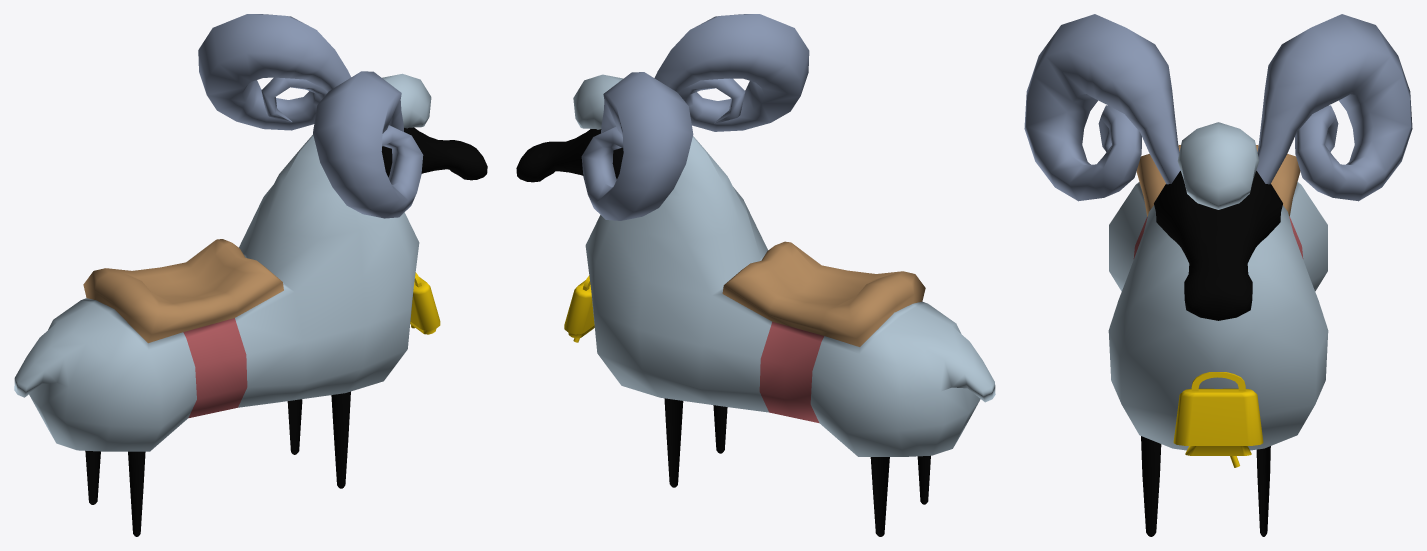
File: Aries_v01.fbx
3 views of the same model, side by side, from view 1: azimuth 30°, elevation 25°; view 2: azimuth 150°, elevation 25°; view 3: azimuth 270°, elevation 25° (orthographic). The views are drawn at different scales.
Visible parts, largest first — view 1: pCube5; view 2: pCube5; view 3: pCube5.
Boxes of the visible parts, <box> form: pCube5: <box>14,14,487,536</box>; pCube5: <box>516,14,995,536</box>; pCube5: <box>1024,14,1412,536</box>.
Size of the model in its own units: 228 by 199 by 136.
